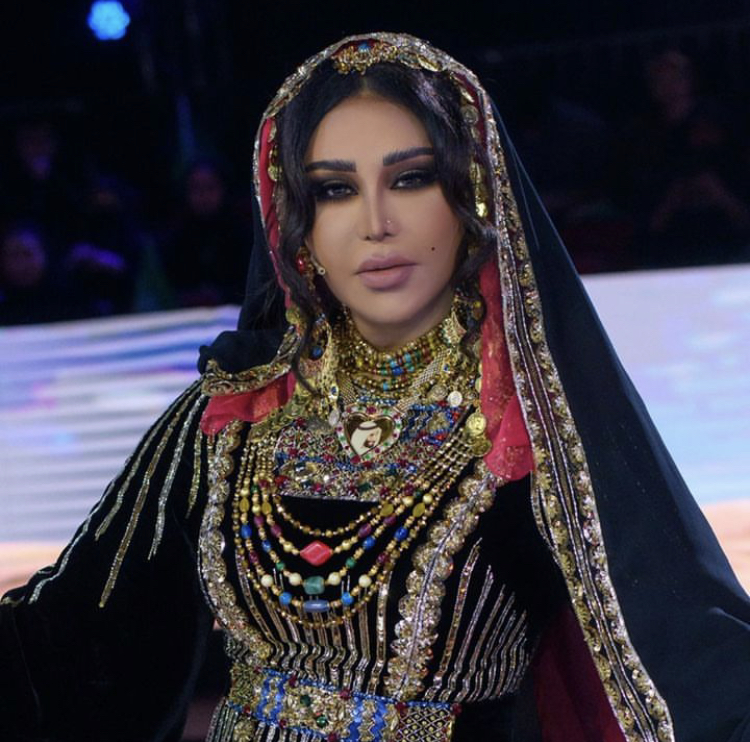Saudi_Founding_Day: (1, 30, 750, 742)
